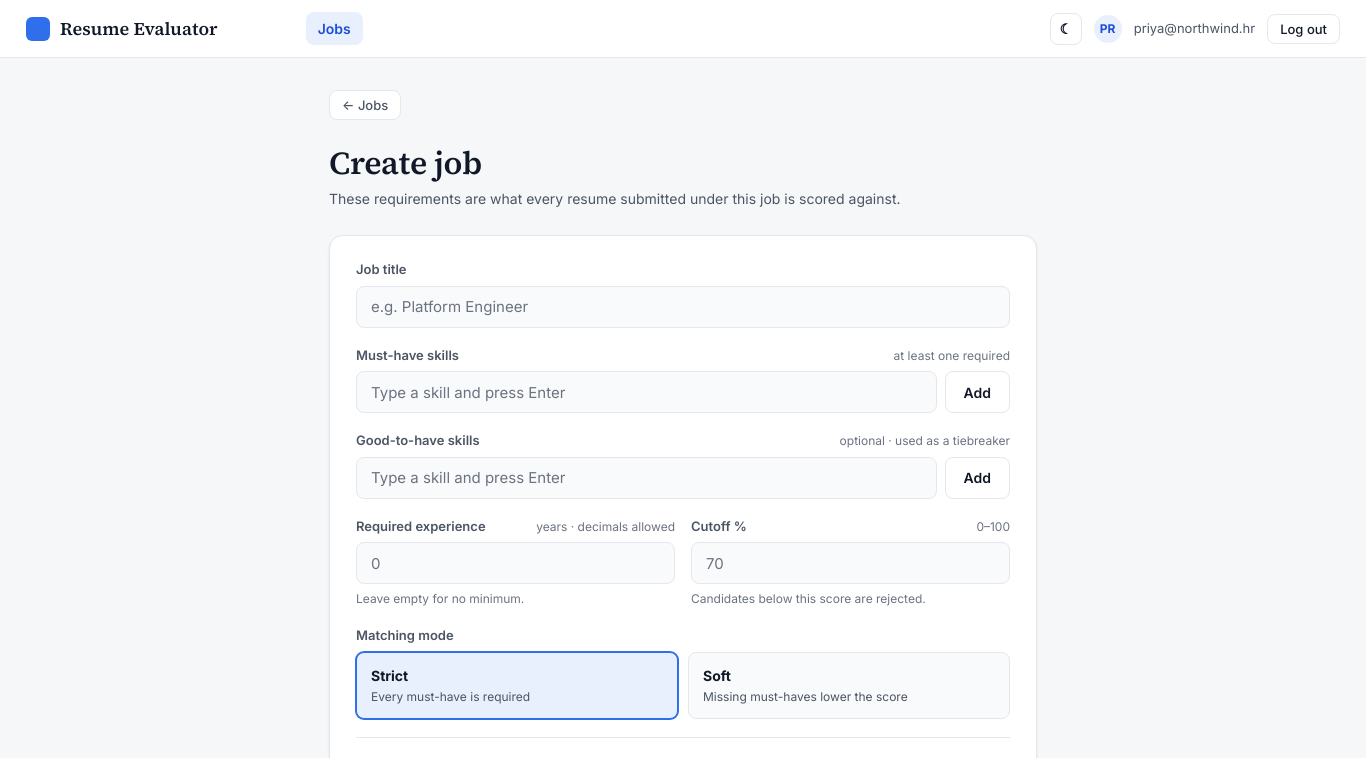
Phase 6 - Create Job screen › negative experience is refused on the client
Type "-2" into the number field labelled "Required experience" at (516,563), box [356,542,675,584]
(page scrolled)
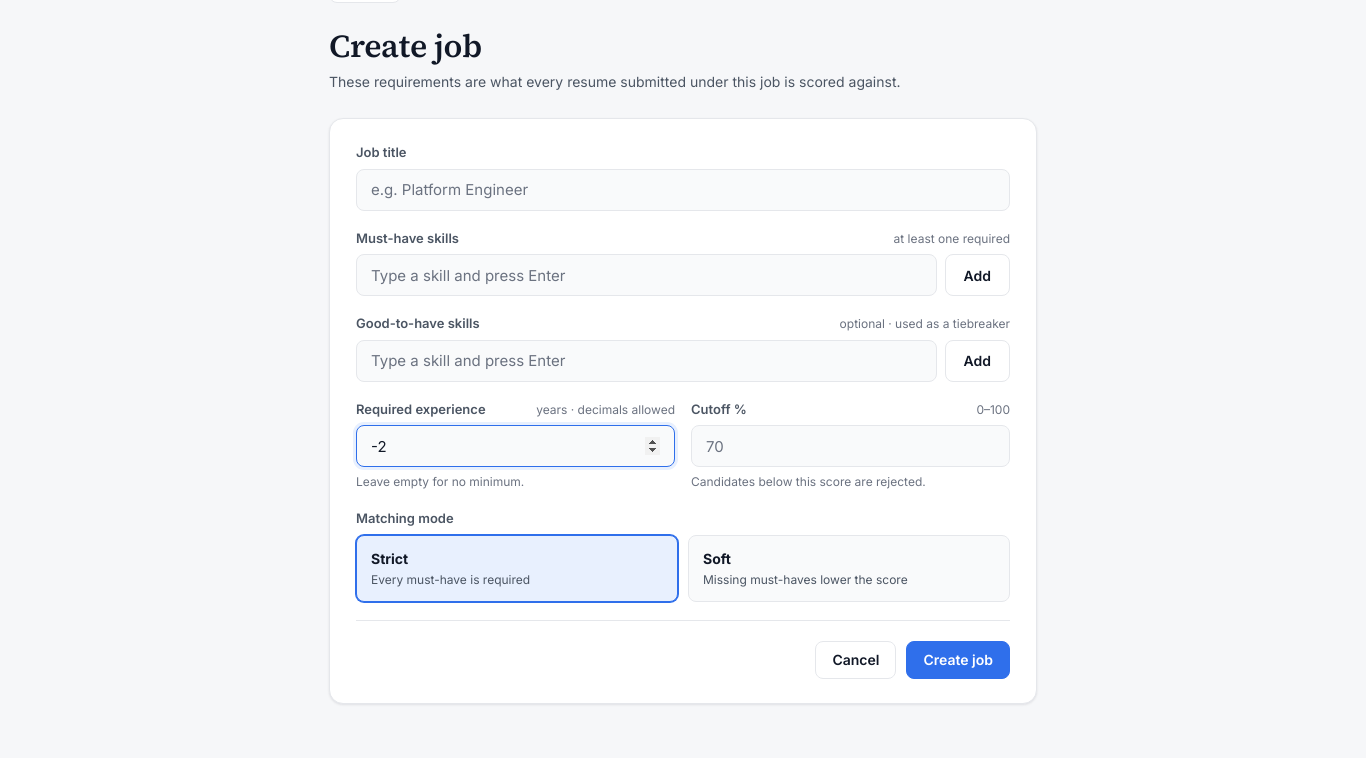
Click the button "Create job" at (958,660), box [906,641,1010,679]
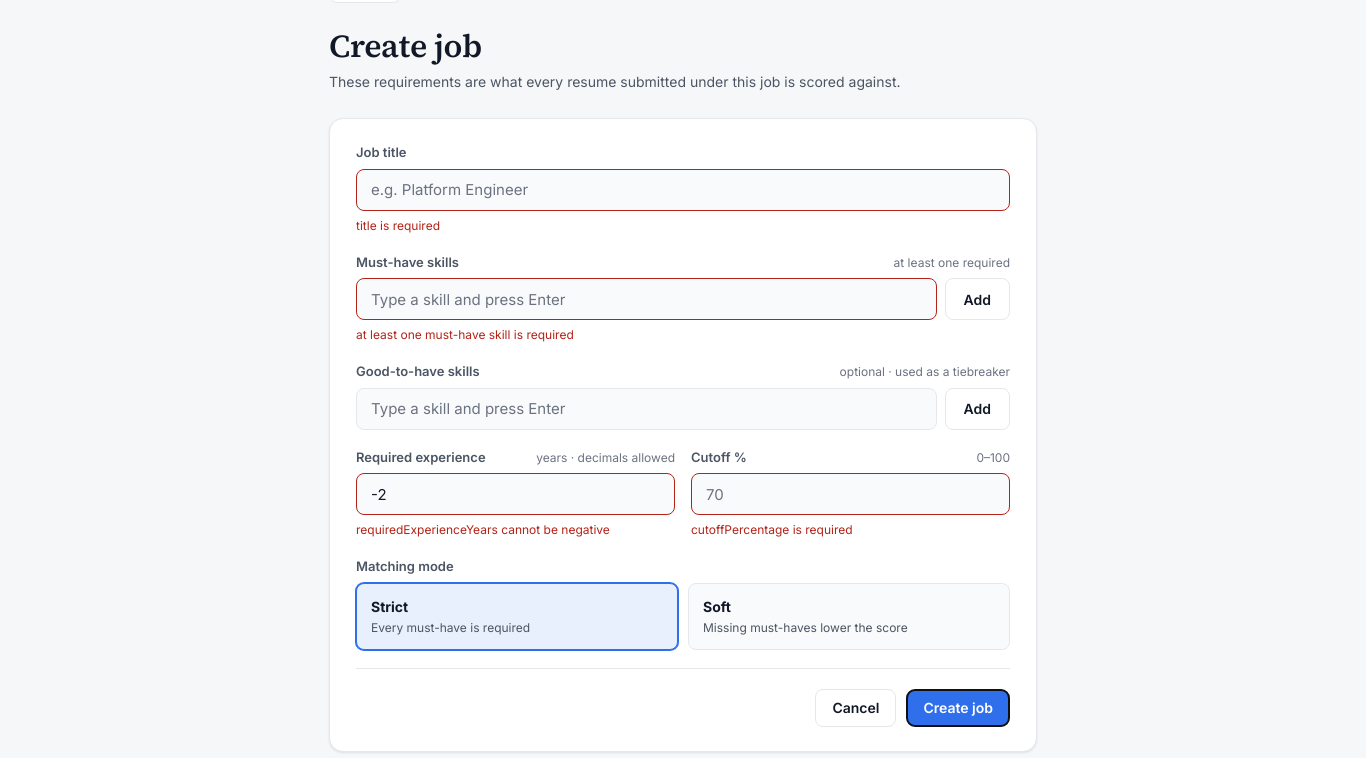
Now the text "requiredExperienceYears cannot be negative" is shown, box [356,522,610,537]
